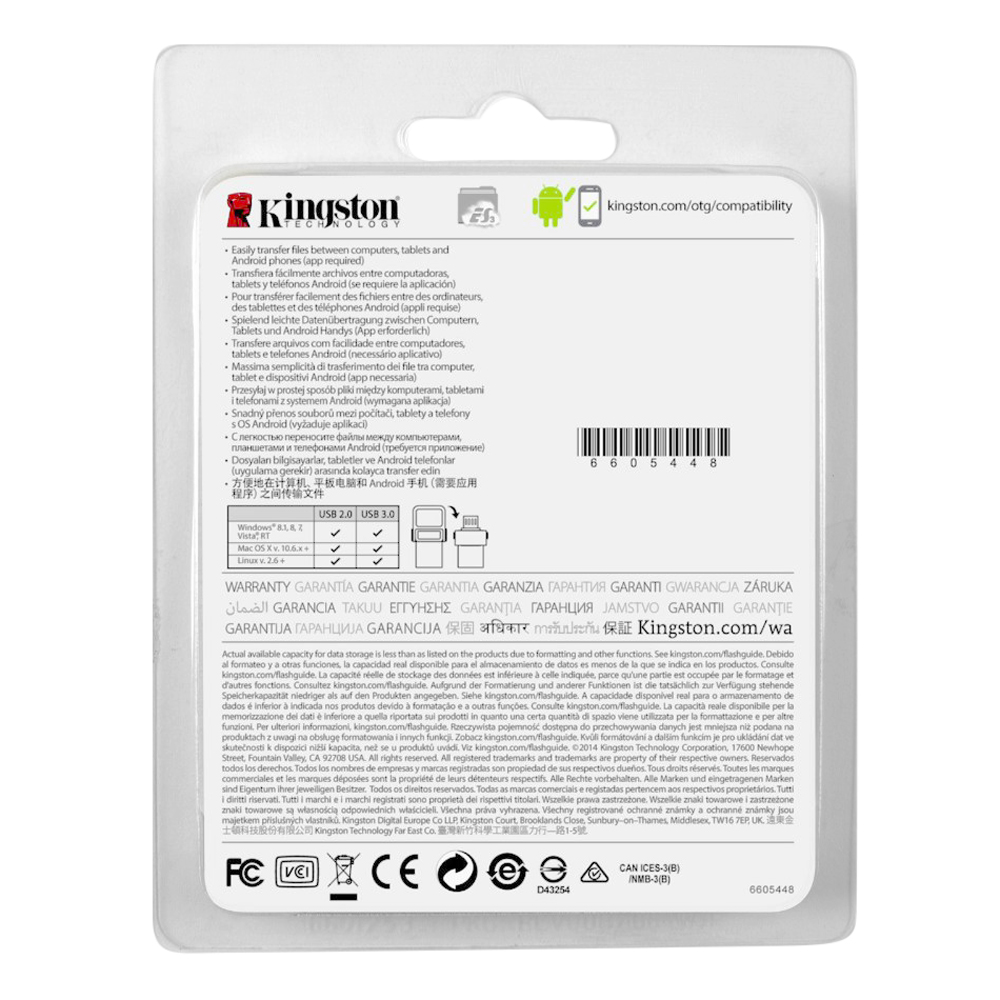Kingston: (220, 183, 413, 233)
